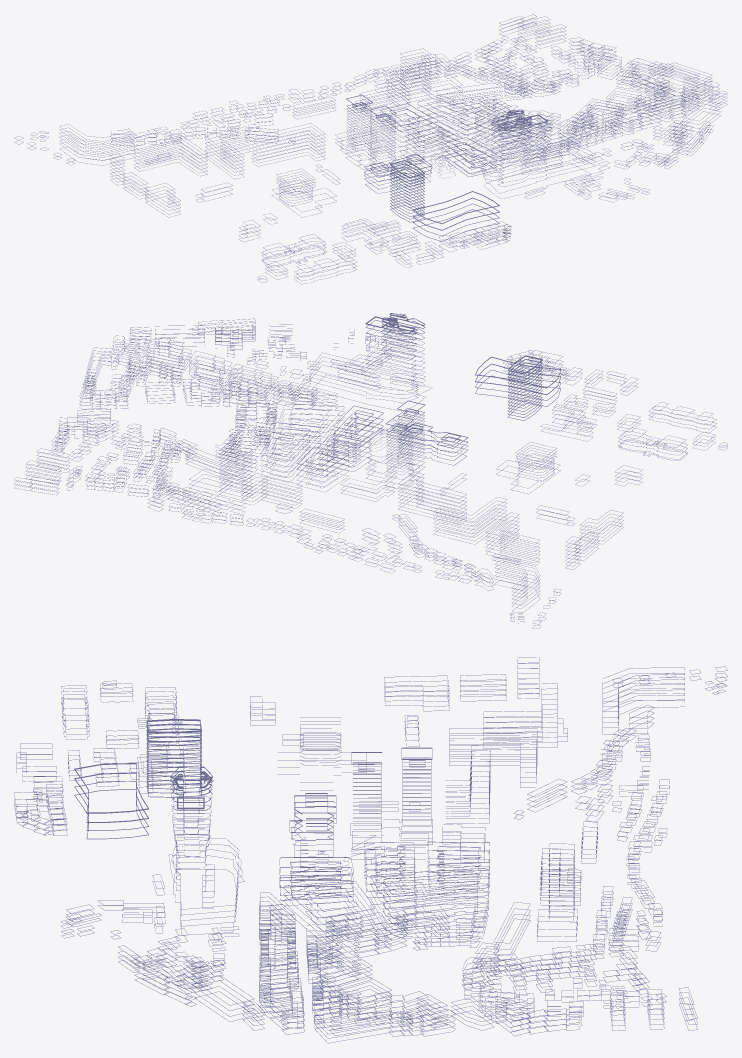
Rendered from Sa_MDvor_Wireframe.fbx.
3 renders of one model, top to bottom at view 1: azimuth 30°, elevation 25°; view 2: azimuth 150°, elevation 25°; view 3: azimuth 270°, elevation 25°, orthographic. The views are drawn at different scales.
Parts seen in each view (by area): view 1: Sa_MDvor_Wireframe; view 2: Sa_MDvor_Wireframe; view 3: Sa_MDvor_Wireframe.
Part boxes in pixels (bbox=[...]): Sa_MDvor_Wireframe: bbox=[14, 14, 727, 284]; Sa_MDvor_Wireframe: bbox=[14, 313, 727, 628]; Sa_MDvor_Wireframe: bbox=[14, 657, 727, 1043].
Bounding box in the file's own units: 992 × 151 × 752.
